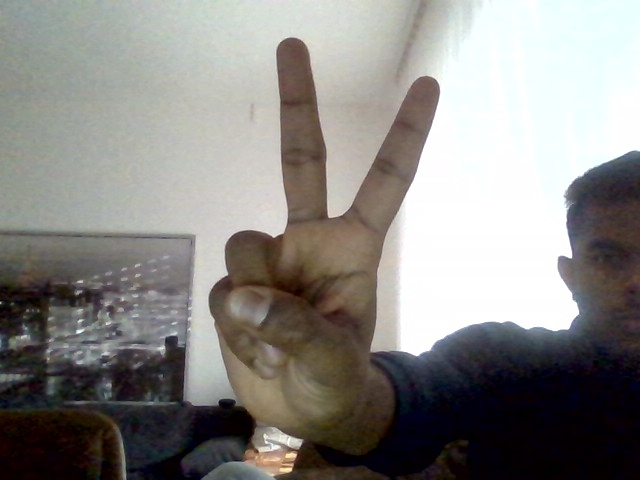livel: (208, 36, 442, 443)
